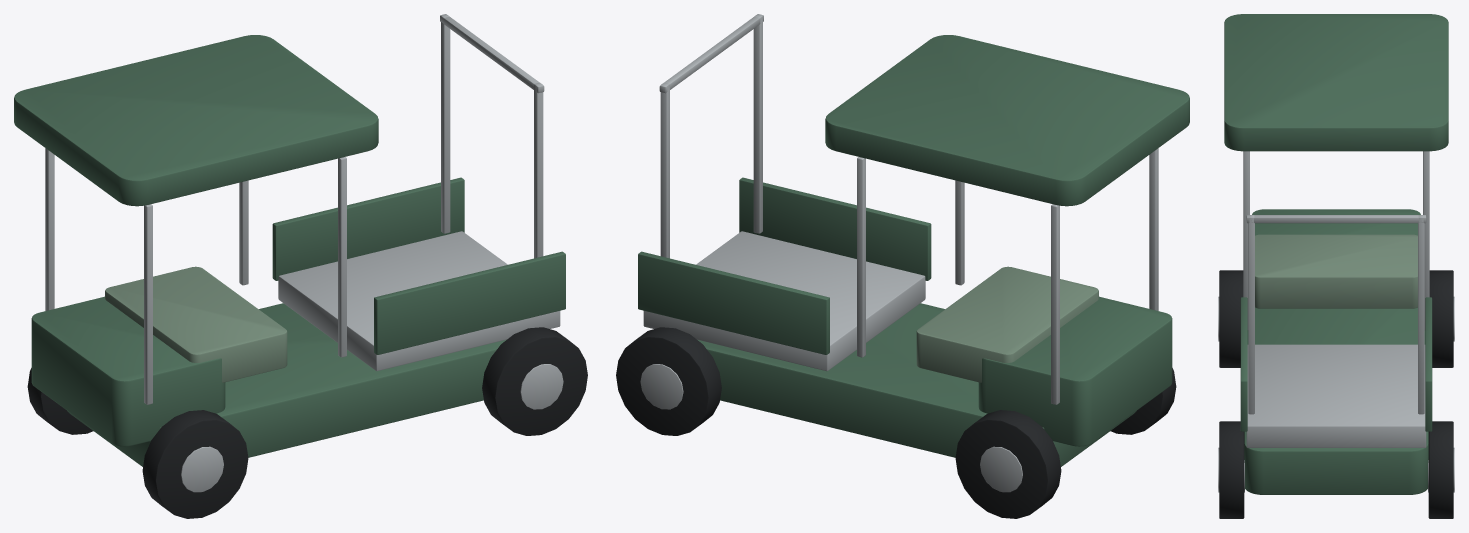
The model's file is utility_cart_public.glb.
3 renders of one model, left to right at view 1: azimuth 30°, elevation 25°; view 2: azimuth 150°, elevation 25°; view 3: azimuth 270°, elevation 25°, orthographic. The views are drawn at different scales.
Parts seen in each view (by area): view 1: Canopy_Roof, ServiceCart_Chassis, ServiceCart_Hood, ServiceCart_BedFloor, ServiceCart_Seat, ServiceCart_BedSide_L, ServiceCart_BedSide_R, ServiceWheel_Front_L_Tire, ServiceWheel_Rear_L_Tire, ServiceCart_SafetyRackPost_R, Canopy_Post_2_1, Canopy_Post_1_1 (+7 smaller); view 2: Canopy_Roof, ServiceCart_Chassis, ServiceCart_Hood, ServiceCart_BedFloor, ServiceCart_Seat, ServiceCart_BedSide_R, ServiceCart_BedSide_L, ServiceWheel_Front_R_Tire, ServiceWheel_Rear_R_Tire, ServiceCart_SafetyRackPost_L, Canopy_Post_2_2, Canopy_Post_1_2 (+7 smaller); view 3: Canopy_Roof, ServiceCart_BedFloor, ServiceCart_Chassis, ServiceCart_Seat, ServiceCart_Hood, ServiceWheel_Rear_L_Tire, ServiceWheel_Rear_R_Tire, ServiceWheel_Front_L_Tire, ServiceWheel_Front_R_Tire, ServiceCart_SafetyRackTop, ServiceCart_SafetyRackPost_L, ServiceCart_SafetyRackPost_R (+4 smaller).
Part boxes in pixels (box(x1,y1,x2,y2)): Canopy_Roof: box(14, 35, 378, 206); ServiceCart_Chassis: box(67, 303, 506, 466); ServiceCart_Hood: box(31, 296, 225, 446); ServiceCart_BedFloor: box(278, 231, 560, 371); ServiceCart_Seat: box(105, 266, 287, 382); ServiceCart_BedSide_L: box(374, 251, 565, 354); ServiceCart_BedSide_R: box(272, 177, 464, 280); ServiceWheel_Front_L_Tire: box(142, 410, 248, 518); ServiceWheel_Rear_L_Tire: box(482, 327, 587, 435); ServiceCart_SafetyRackPost_R: box(441, 14, 450, 233); Canopy_Post_2_1: box(338, 157, 346, 357); Canopy_Post_1_1: box(144, 204, 152, 404); Canopy_Roof: box(825, 35, 1189, 206); ServiceCart_Chassis: box(697, 303, 1136, 466); ServiceCart_Hood: box(978, 296, 1172, 446); ServiceCart_BedFloor: box(643, 231, 925, 371); ServiceCart_Seat: box(916, 266, 1098, 382); ServiceCart_BedSide_R: box(638, 251, 829, 354); ServiceCart_BedSide_L: box(739, 177, 931, 280); ServiceWheel_Front_R_Tire: box(955, 410, 1061, 518); ServiceWheel_Rear_R_Tire: box(616, 327, 721, 435); ServiceCart_SafetyRackPost_L: box(753, 14, 762, 233); Canopy_Post_2_2: box(857, 157, 865, 357); Canopy_Post_1_2: box(1051, 204, 1059, 404); Canopy_Roof: box(1224, 14, 1448, 151); ServiceCart_BedFloor: box(1246, 344, 1426, 447); ServiceCart_Chassis: box(1244, 307, 1428, 494); ServiceCart_Seat: box(1255, 234, 1417, 308); ServiceCart_Hood: box(1252, 209, 1420, 235); ServiceWheel_Rear_L_Tire: box(1219, 421, 1244, 518); ServiceWheel_Rear_R_Tire: box(1428, 421, 1453, 518); ServiceWheel_Front_L_Tire: box(1219, 270, 1243, 367); ServiceWheel_Front_R_Tire: box(1429, 270, 1453, 367); ServiceCart_SafetyRackTop: box(1246, 215, 1426, 223); ServiceCart_SafetyRackPost_L: box(1248, 215, 1254, 414); ServiceCart_SafetyRackPost_R: box(1418, 215, 1424, 414).
Size of what is drawn, in the model's own units: 2.47 by 1.8 by 1.21.
